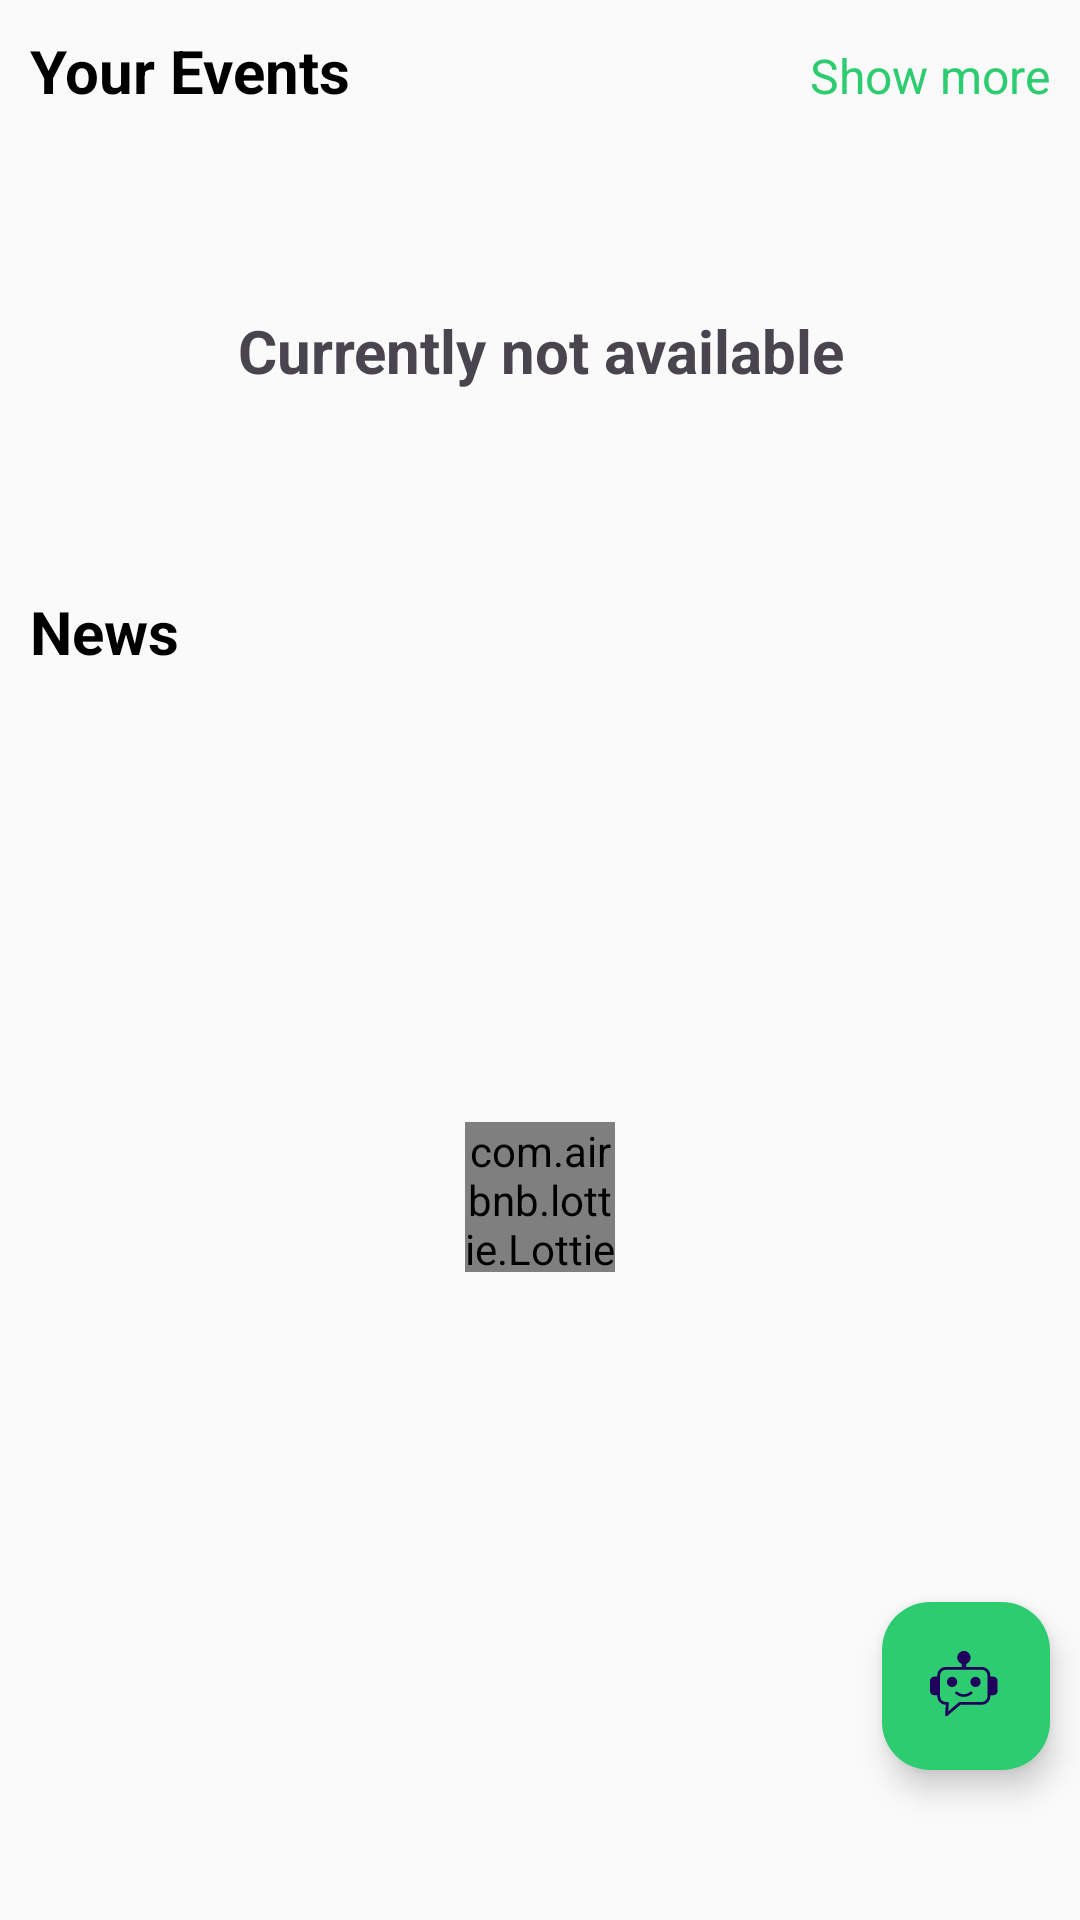

Screen size 1080 × 1920. Icon name, then its center in pixels as (x=x, y=y):
chatbot: (x=966, y=1686)
